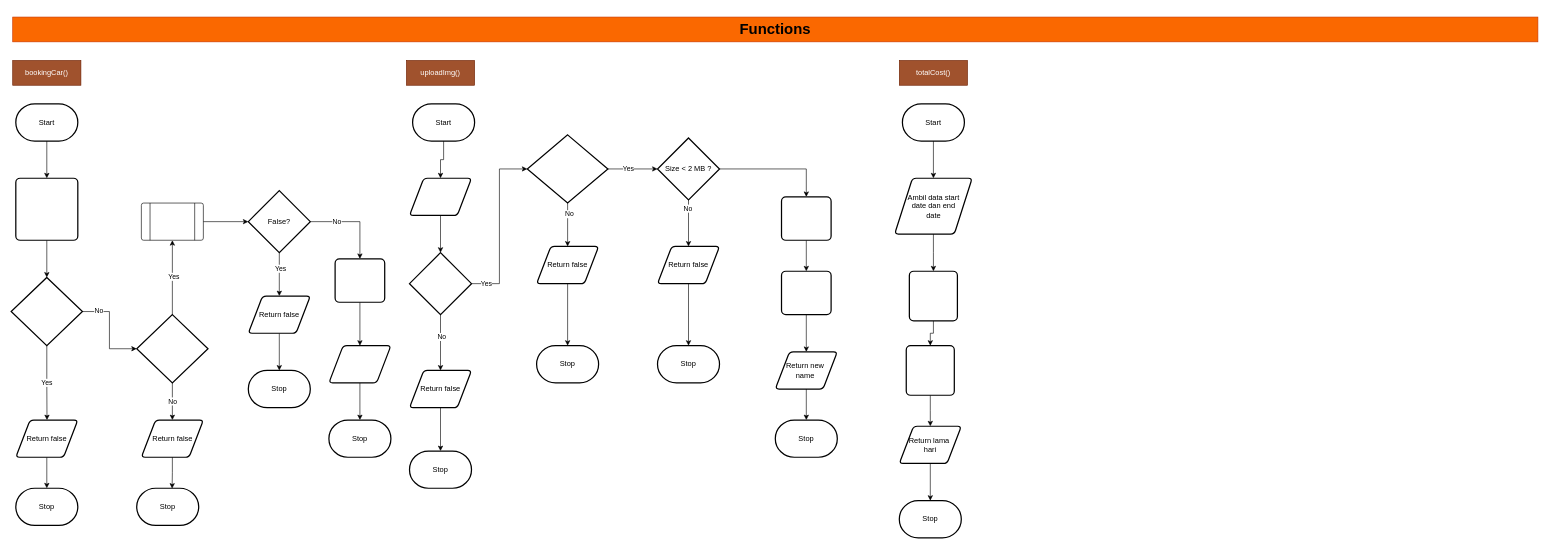
Image size: 1549x549. Some labels were removed from this diagram. The shapes that lost their labels are listed below. From the top down, each one's box as (x1, y1, x2, y2) in pixels, then its label:
(526, 134, 608, 203): Apakah ekstensi file valid ?
(15, 177, 78, 241): Ambil semua data yang diinput
(409, 177, 472, 216): Ambil data gambar
(141, 202, 203, 240): Upload Img
(781, 196, 831, 241): Memasukkan data asli ke folder img
(334, 258, 385, 303): Masukkan data ke database
(409, 252, 472, 315): Apakah ada gambar yg diupload ?
(781, 270, 831, 315): Generate uniqId()
(908, 270, 958, 321): Konversikan dalam hari
(10, 277, 83, 346): Apakah salah satu data kosong?
(136, 314, 208, 383): Start Date <= End Date ?
(328, 345, 391, 383): Return mysqli affected row
(905, 345, 955, 396): Kurangi untuk mengetahui lama hari
